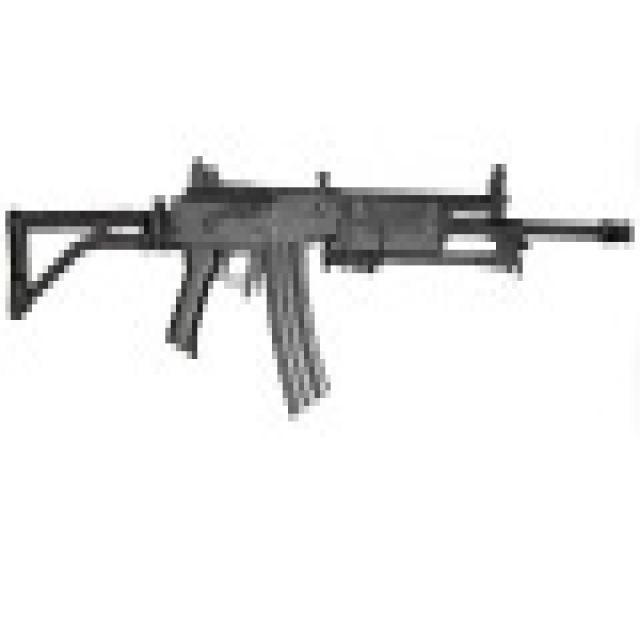Gun: (1, 125, 638, 430)
